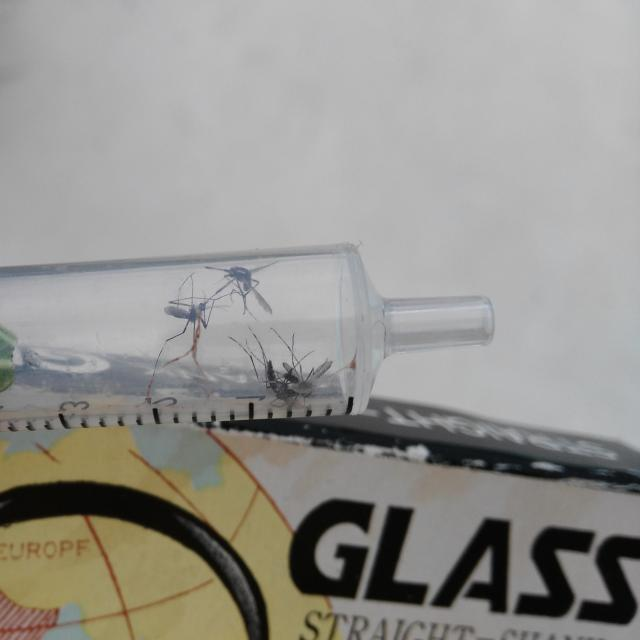albopictus: (220, 319, 348, 410)
